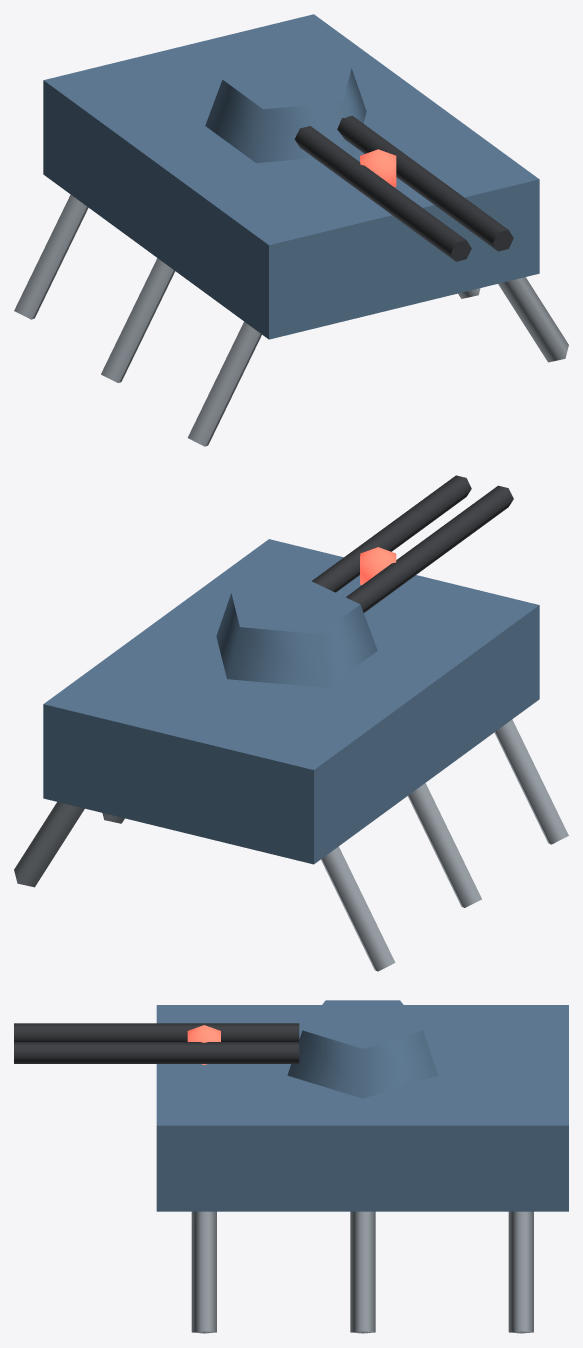
Rendered from unit_mil_ground_drone_a09_lod1.glb.
The picture shows the model from 3 angles, top to bottom: view 1: azimuth 30°, elevation 25°; view 2: azimuth 150°, elevation 25°; view 3: azimuth 270°, elevation 25°; orthographic projection. The views are drawn at different scales.
Visible parts, largest first — view 1: body, turret; view 2: body, turret; view 3: body, turret.
Boxes of the visible parts, x1,y1,x2,y2 form: body: (14, 14, 568, 446); turret: (205, 54, 513, 261); body: (14, 539, 568, 971); turret: (216, 475, 513, 687); body: (156, 1005, 568, 1333); turret: (14, 1000, 437, 1098).
Size of the model in its own units: 1.27 by 0.82 by 1.75.
